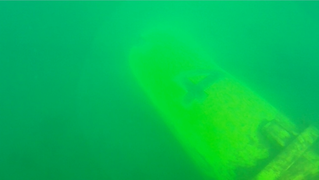4: (178, 67, 224, 104)
pipe: (128, 22, 319, 180)
